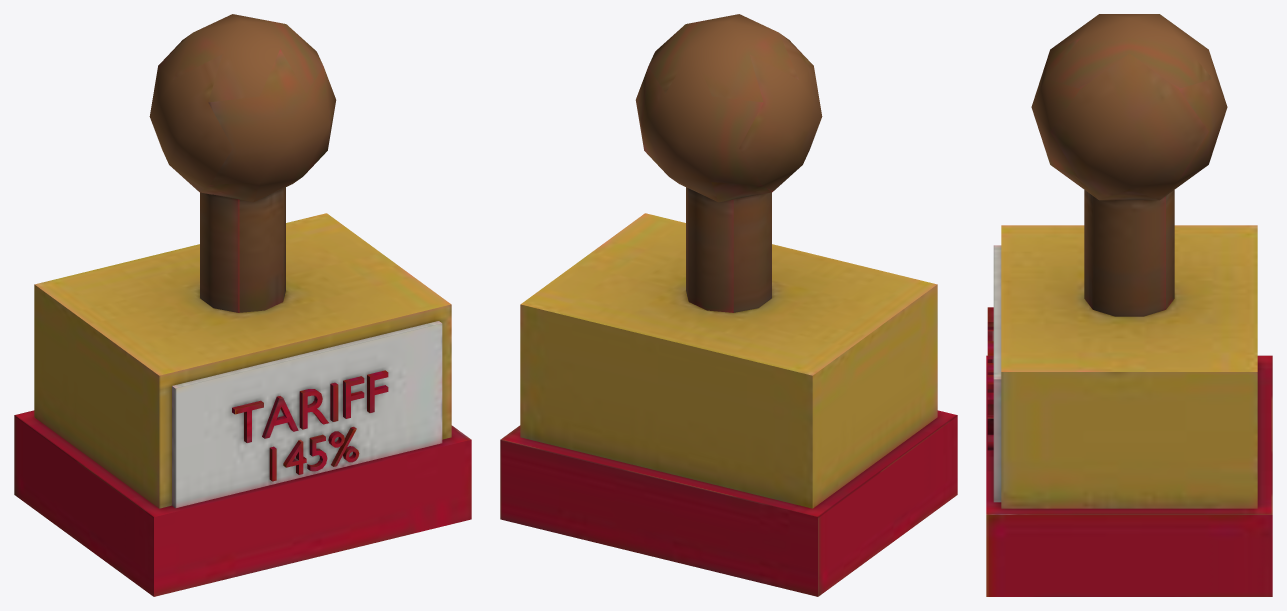
Rendered from arancel.glb.
3 renders of one model, left to right at view 1: azimuth 30°, elevation 25°; view 2: azimuth 150°, elevation 25°; view 3: azimuth 270°, elevation 25°, orthographic. The views are drawn at different scales.
Parts seen in each view (by area): view 1: arancel; view 2: arancel; view 3: arancel.
Boxes of the visible parts, left/top/right/bottom form: arancel: left=14, top=14, right=471, bottom=596; arancel: left=500, top=14, right=957, bottom=596; arancel: left=986, top=14, right=1272, bottom=596.
Bounding box in the file's own units: 0.5 × 0.73 × 0.38.
Materials: 1 (1 with a texture image).
